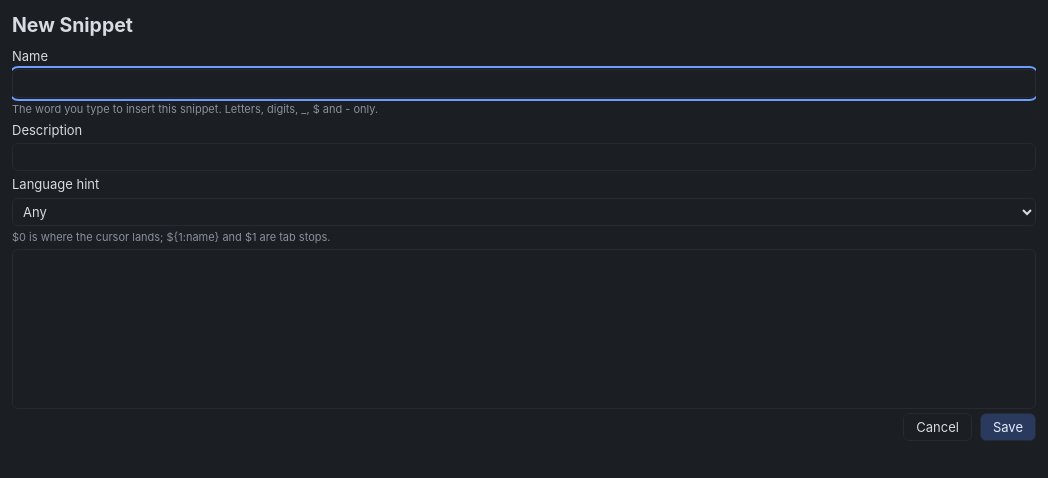
the New / Edit snippet form (spec §13.1) › a typed name differing only in case from a stored one is taken (the typed side is folded)
This screenshot has width=1048, height=478.
In the field labelled "Name": (524, 84) [12,70,1036,98], type "FETCHJSON"
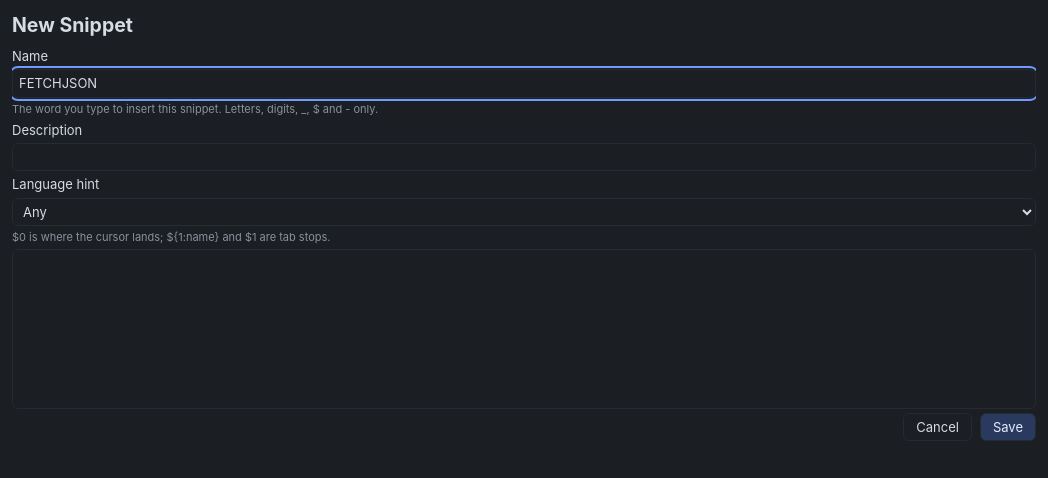
Click the button "Save": (1008, 427) [980,413,1036,441]
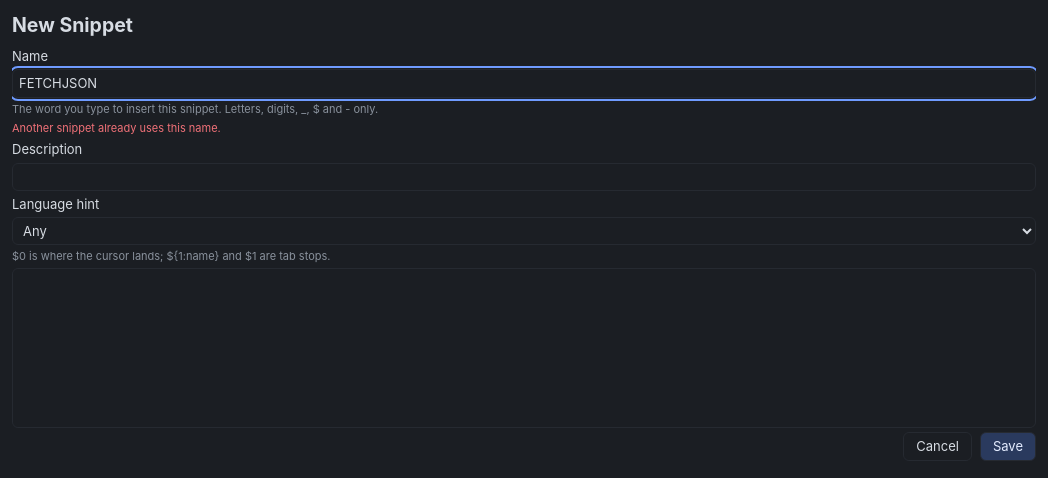
Result: the text "Another snippet already uses this name." is shown at [12,121,221,135]
